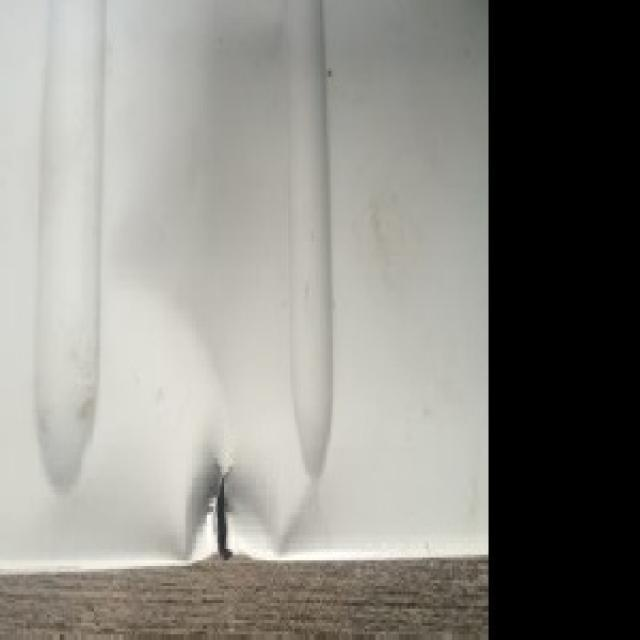crack: (189, 459, 243, 570)
